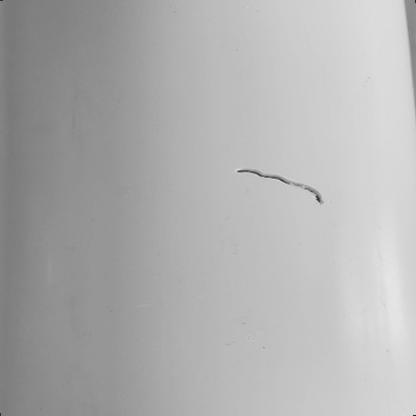fengxi: (236, 166, 325, 205)
